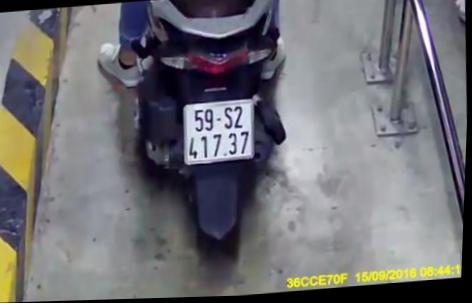LP: (180, 98, 259, 166)
